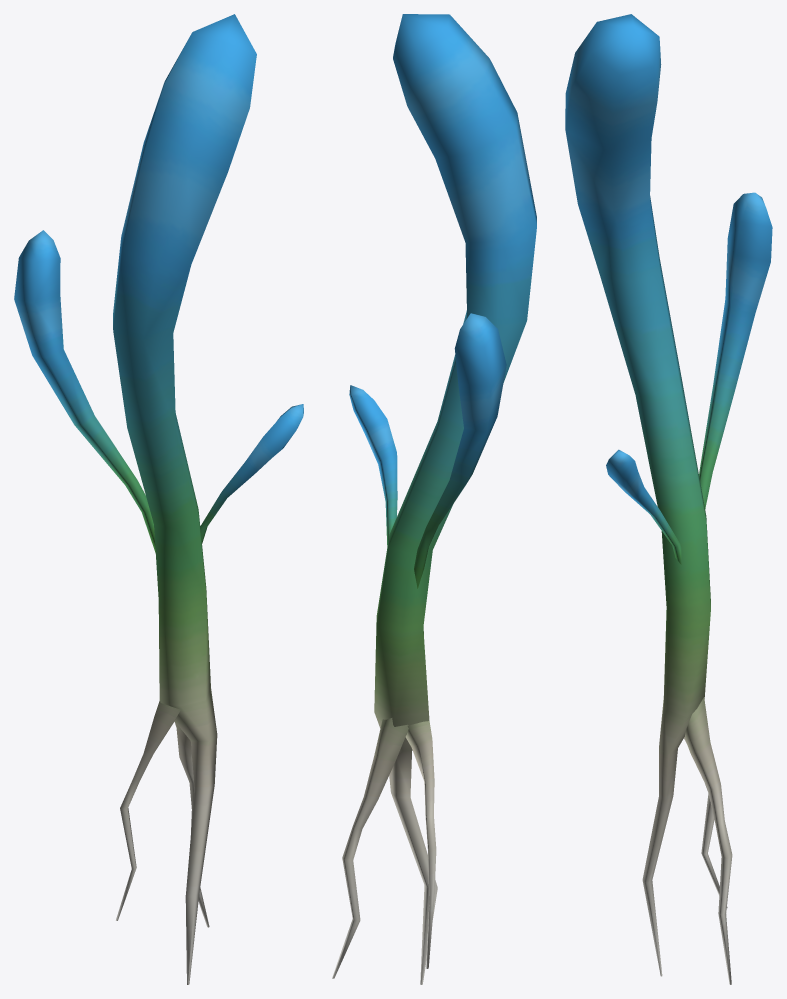
Rendered from Homeworld_Exterior_Common_Thing_Seedling_02_Vo.fbx.
3 views of the same model, side by side, from view 1: azimuth 30°, elevation 25°; view 2: azimuth 150°, elevation 25°; view 3: azimuth 270°, elevation 25° (orthographic). The views are drawn at different scales.
Visible parts, largest first — view 1: Homeworld_Exterior_Common_Thing_Seedling_02_Vo; view 2: Homeworld_Exterior_Common_Thing_Seedling_02_Vo; view 3: Homeworld_Exterior_Common_Thing_Seedling_02_Vo.
Boxes of the visible parts, x1,y1,x2,y2 form: Homeworld_Exterior_Common_Thing_Seedling_02_Vo: [14, 14, 303, 984]; Homeworld_Exterior_Common_Thing_Seedling_02_Vo: [332, 14, 536, 984]; Homeworld_Exterior_Common_Thing_Seedling_02_Vo: [565, 14, 772, 984].
Bounding box in the file's own units: 0.1147 × 0.4903 × 0.0956.
1 material, 1 textured.
